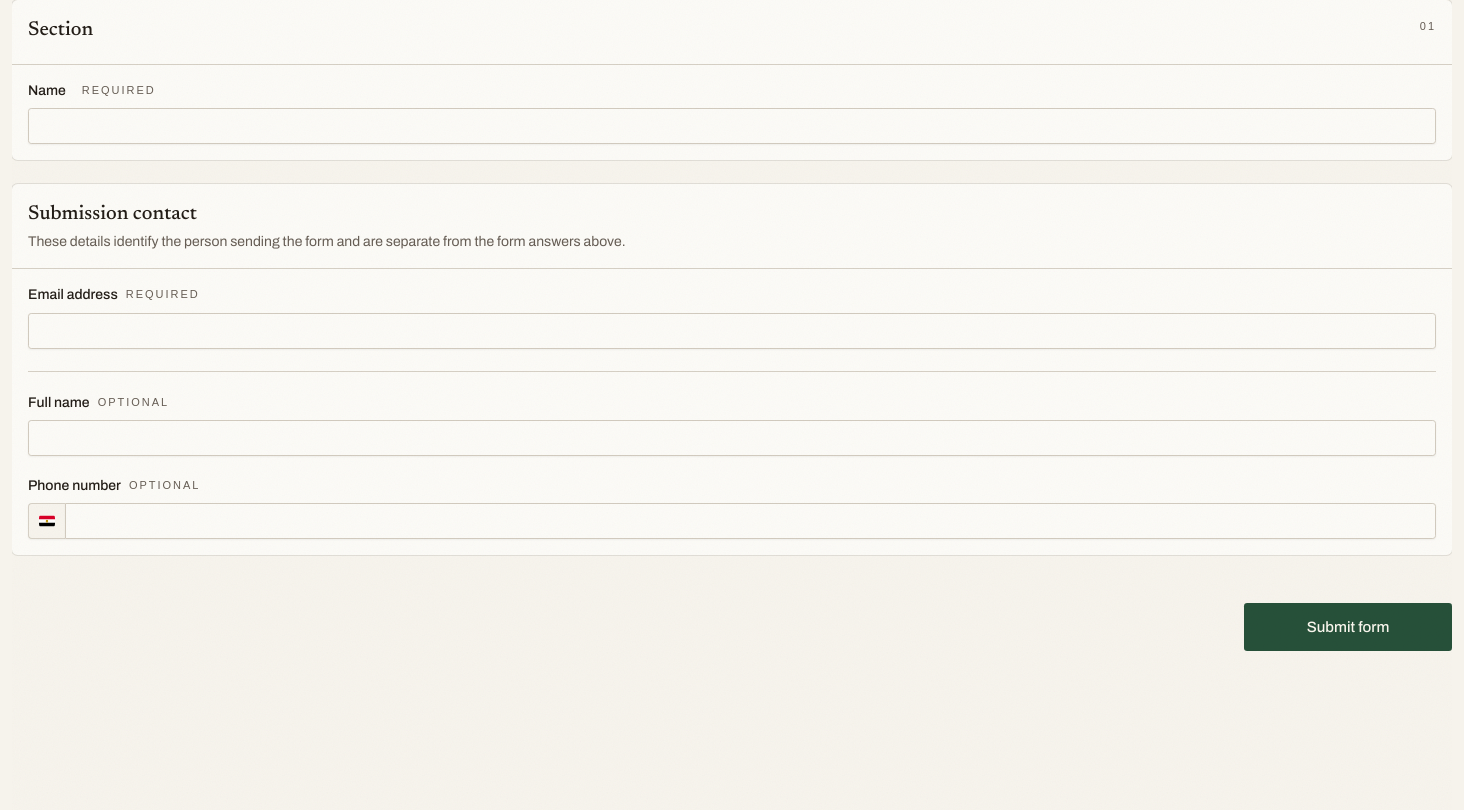
Test: DynamicForm effect stability › scrolls to and focuses a submission error rendered above the form
The width and height of the screenshot is (1464, 810).
In the field labelled "Name Required": coordinates (732, 126) [28,108,1436,144], type "Aisha"
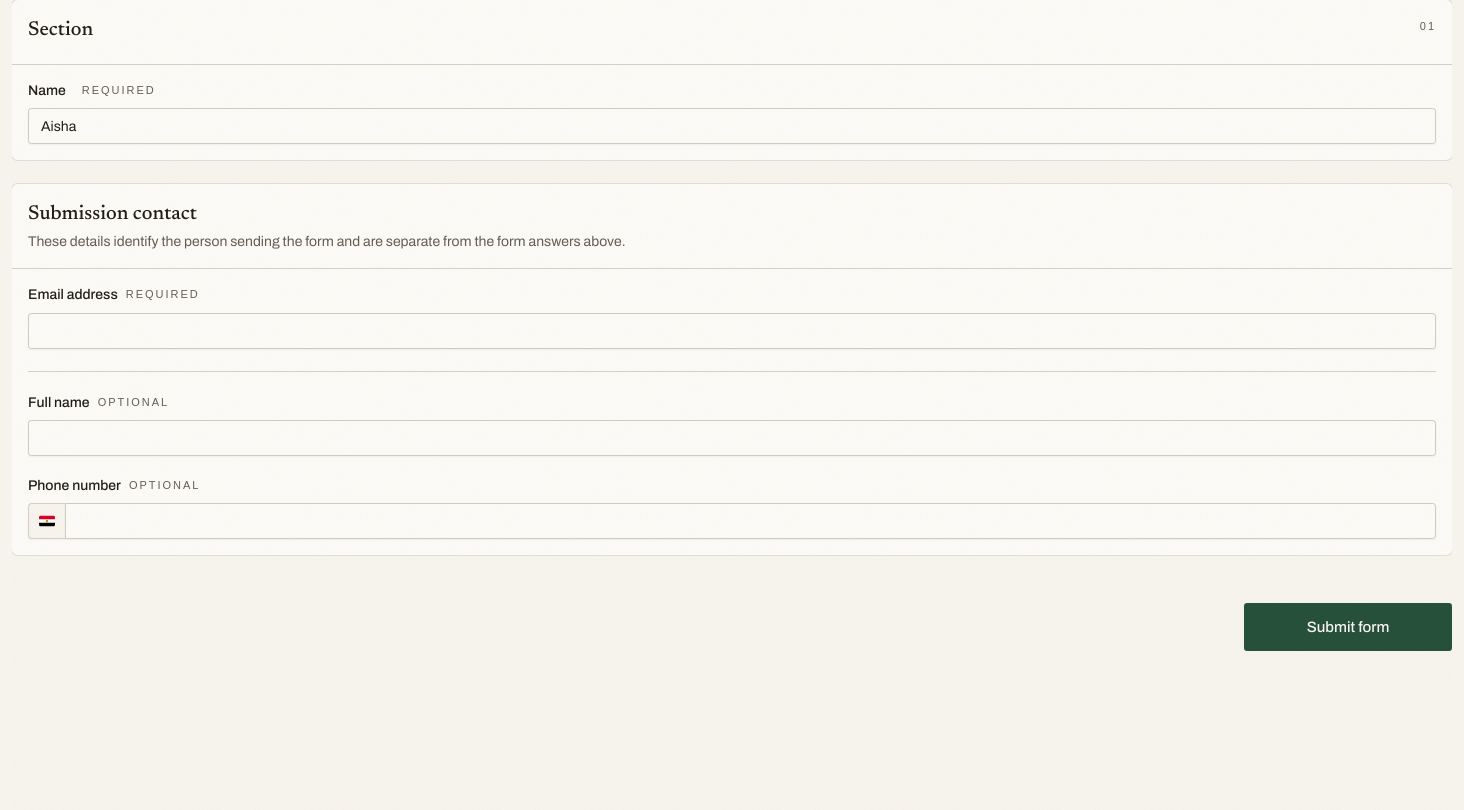
In the field labelled "Email address Required": coordinates (732, 330) [28,312,1436,348], type "aisha@example.com"
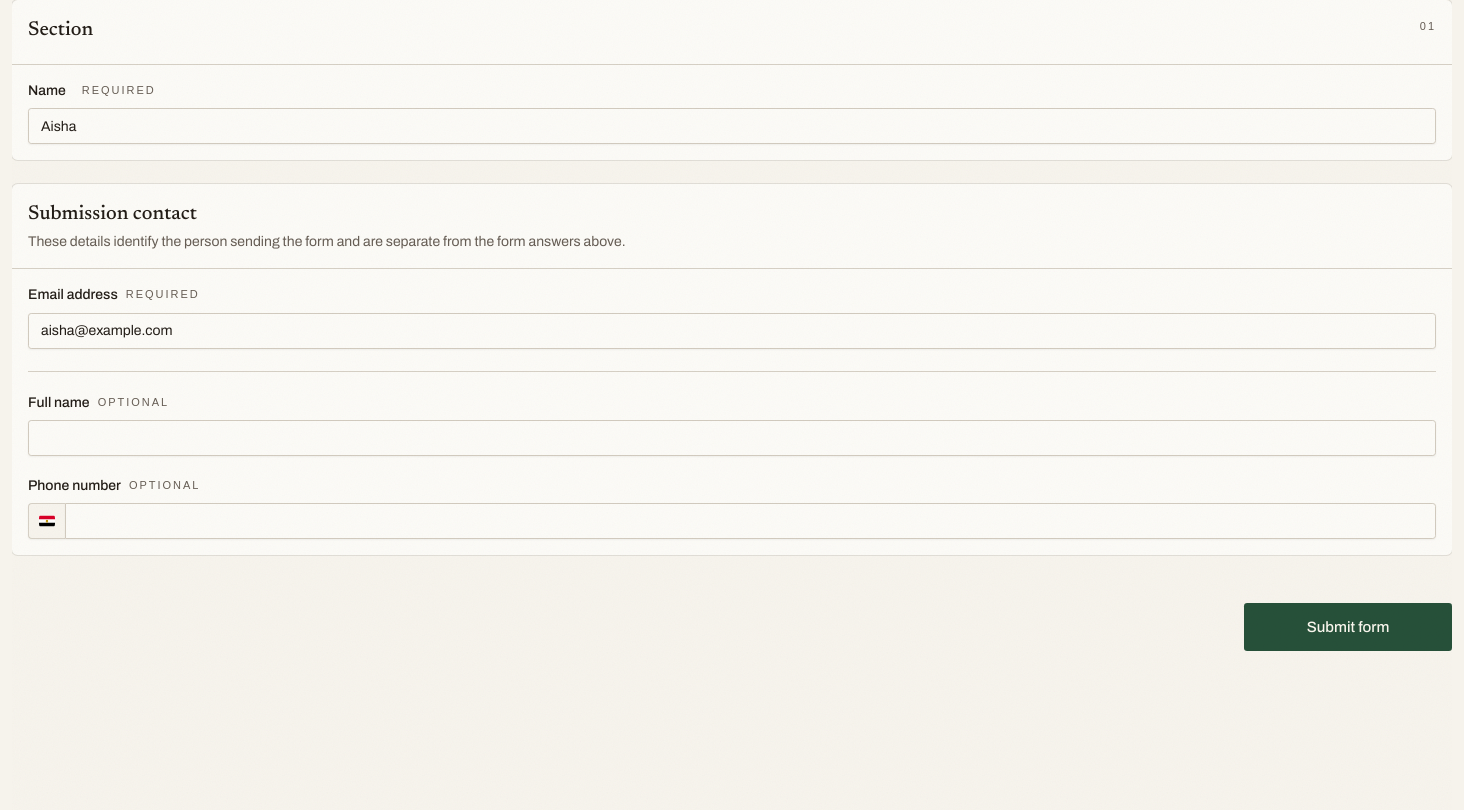
Click the button "Submit form": coordinates (1348, 627) [1244,603,1452,651]
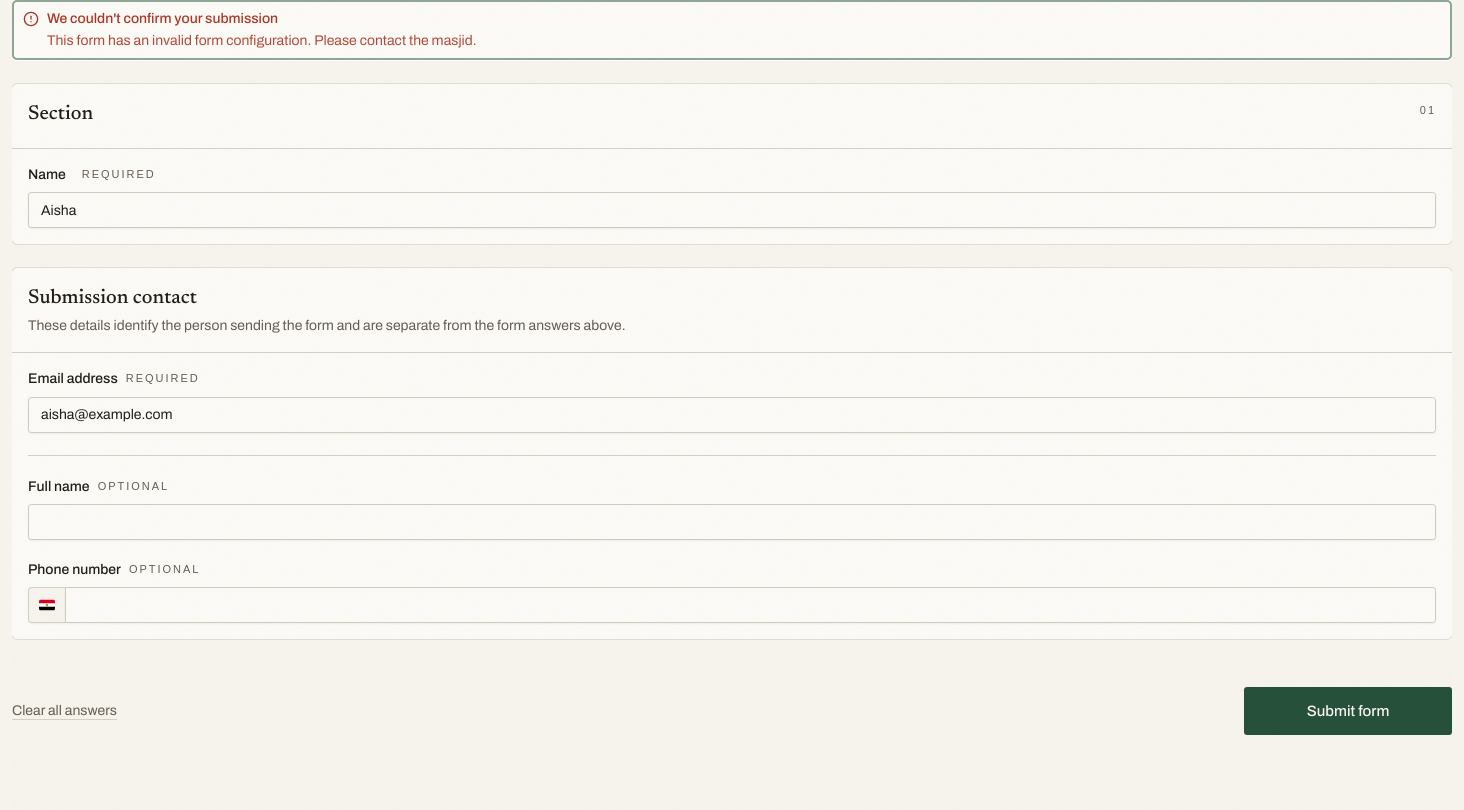
Expected: the message shows "invalid form configuration", [47,33,476,48]
